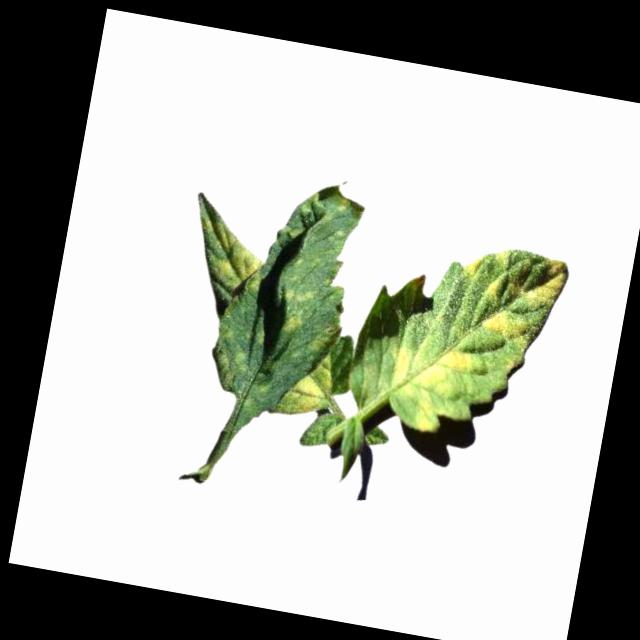Leaf_Mold: (378, 338, 478, 439), (208, 223, 265, 288), (513, 249, 567, 314), (477, 305, 542, 350), (280, 365, 331, 420), (277, 280, 317, 335), (461, 249, 484, 278)
